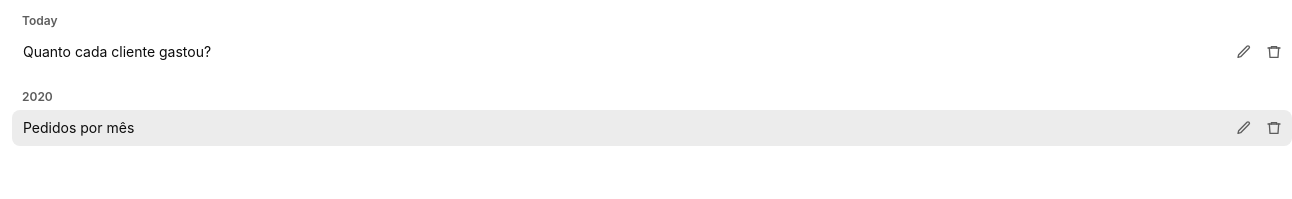
ConversationList › asks for confirmation before deleting, and leaves the deleted active chat
Click the button named "Delete Pedidos por mês" at (1274, 128), box [1260,114,1288,142]
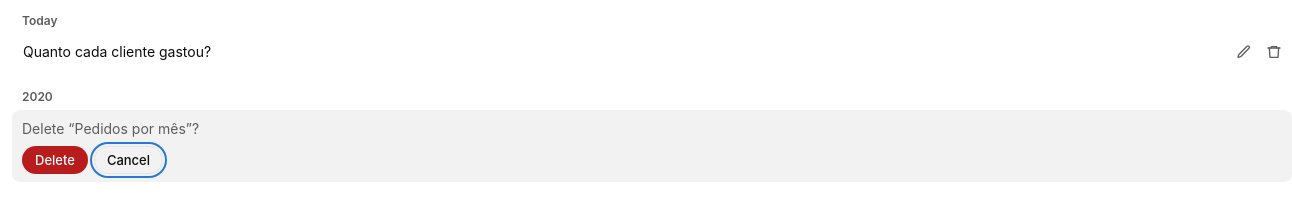
Click the button "Delete" at (55, 160), box [22,146,88,174]
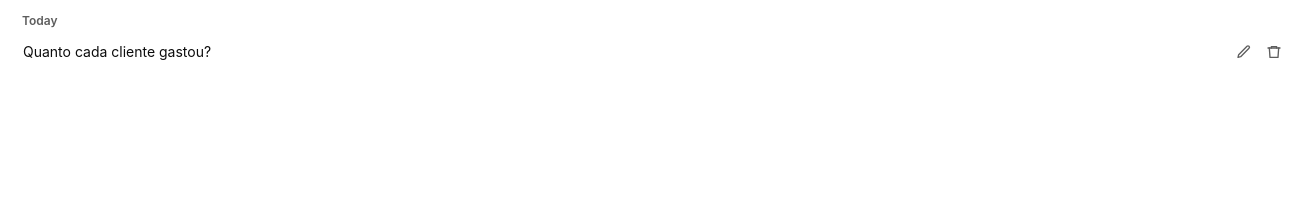
Expected: the text "Pedidos por mês" is gone
